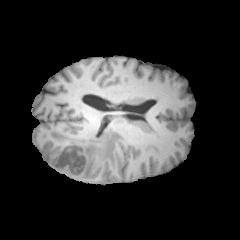glioma: (45, 128, 124, 178)
